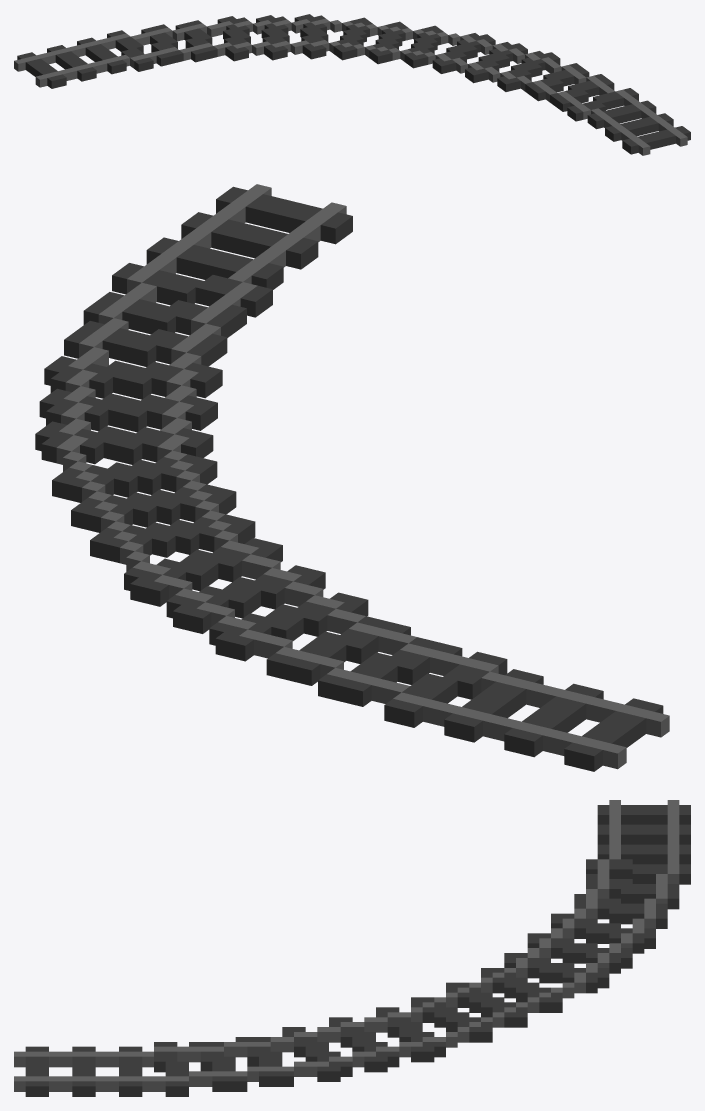
Rendered from track-curve-large-outer.gltf.
3 renders of one model, top to bottom at view 1: azimuth 30°, elevation 25°; view 2: azimuth 150°, elevation 25°; view 3: azimuth 270°, elevation 25°, orthographic. The views are drawn at different scales.
Parts seen in each view (by area): view 1: track-curve-large-outer; view 2: track-curve-large-outer; view 3: track-curve-large-outer.
Boxes of the visible parts, <box> form: track-curve-large-outer: <box>14,14,690,155</box>; track-curve-large-outer: <box>35,184,669,771</box>; track-curve-large-outer: <box>14,800,690,1096</box>.
Size of the model in its own units: 5.8 by 0.1 by 5.8.
Materials: 1 (1 with a texture image).
